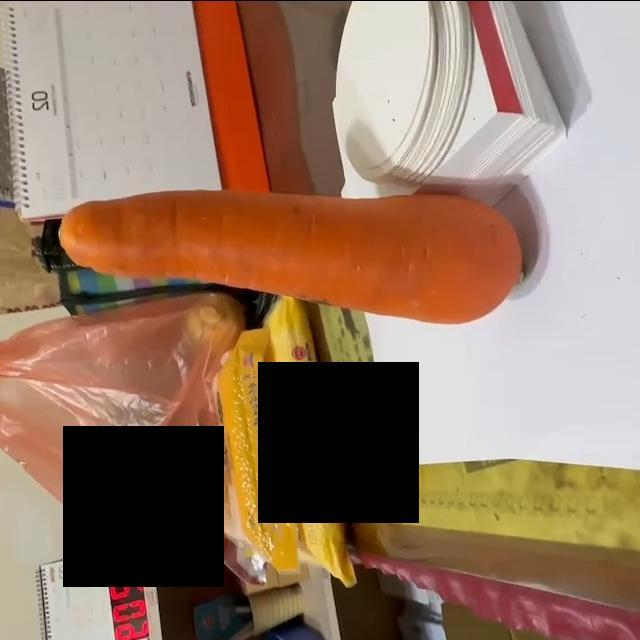carrot: (57, 178, 529, 328)
